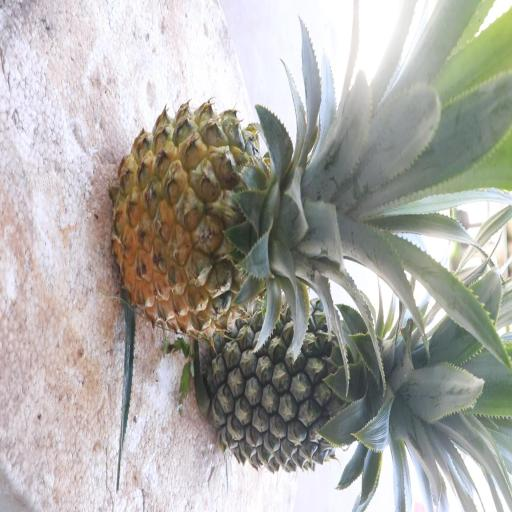Pineapple - v8 v1: (110, 96, 414, 342)
